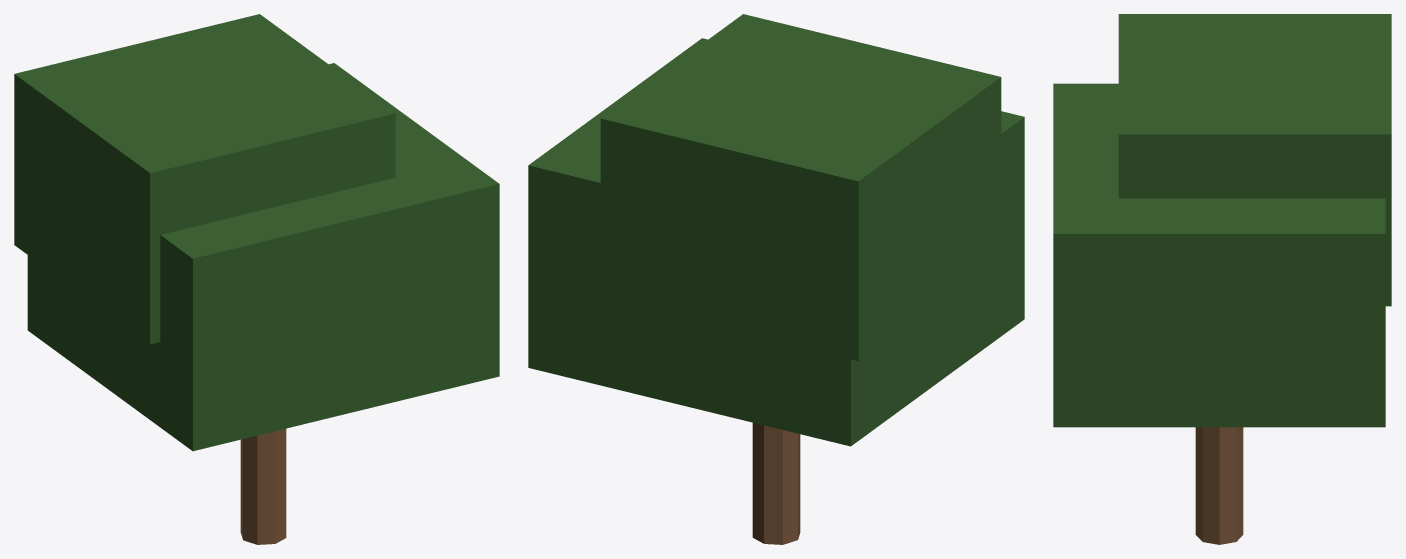
Rendered from SM_K_Tree_Small.obj.
3 renders of one model, left to right at view 1: azimuth 30°, elevation 25°; view 2: azimuth 150°, elevation 25°; view 3: azimuth 270°, elevation 25°, orthographic. The views are drawn at different scales.
Parts seen in each view (by area): view 1: SM_K_Tree_Small; view 2: SM_K_Tree_Small; view 3: SM_K_Tree_Small.
Boxes of the visible parts, x1,y1,x2,y2 form: SM_K_Tree_Small: (14,14,499,544); SM_K_Tree_Small: (528,14,1024,544); SM_K_Tree_Small: (1053,14,1391,544).
Bounding box in the file's own units: 1.55 × 2.05 × 1.43.
